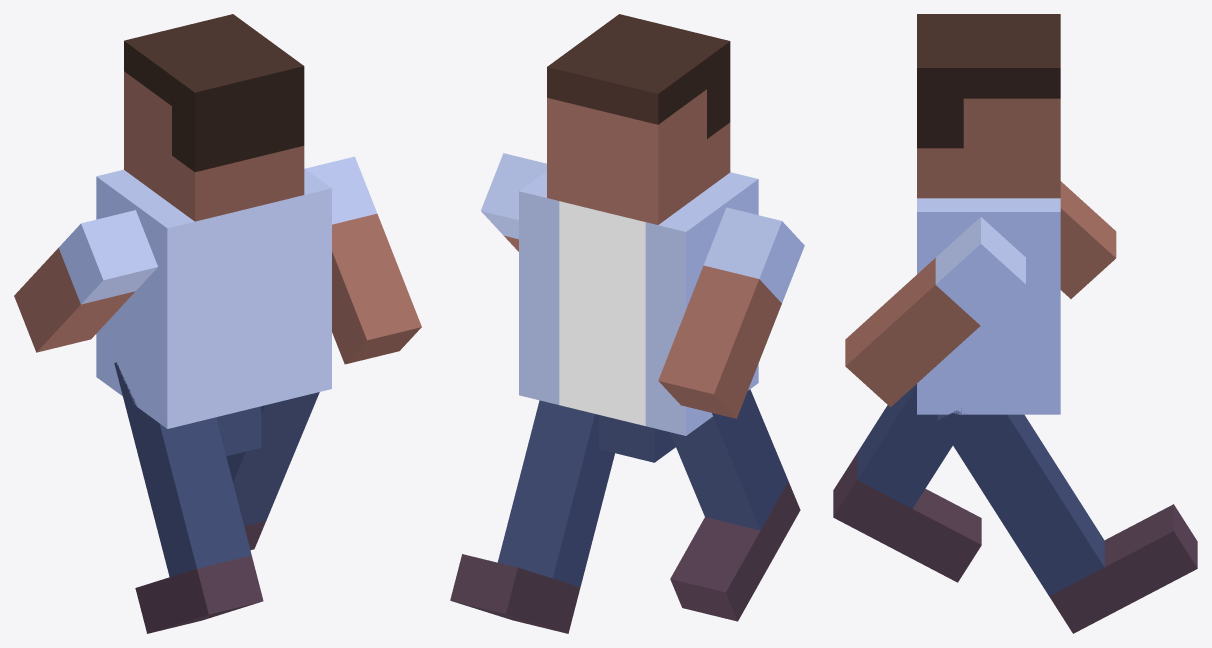
Rendered from new-person-jump-2.2.glb.
3 renders of one model, left to right at view 1: azimuth 30°, elevation 25°; view 2: azimuth 150°, elevation 25°; view 3: azimuth 270°, elevation 25°, orthographic.
Parts seen in each view (by area): view 1: UNIT.056, UNIT.060, UNIT.057, UNIT.058, UNIT.059; view 2: UNIT.056, UNIT.059, UNIT.060, UNIT.058, UNIT.057; view 3: UNIT.056, UNIT.059, UNIT.057, UNIT.060, UNIT.058.
Part boxes in pixels (left/top/right/bottom): UNIT.056: left=96, top=14, right=331, bottom=456; UNIT.060: left=114, top=362, right=263, bottom=633; UNIT.057: left=305, top=156, right=421, bottom=364; UNIT.058: left=14, top=210, right=157, bottom=352; UNIT.059: left=226, top=392, right=319, bottom=550; UNIT.056: left=519, top=14, right=758, bottom=462; UNIT.059: left=450, top=400, right=614, bottom=633; UNIT.060: left=670, top=389, right=800, bottom=621; UNIT.058: left=658, top=207, right=804, bottom=418; UNIT.057: left=481, top=153, right=546, bottom=251; UNIT.056: left=917, top=14, right=1060, bottom=445; UNIT.059: left=937, top=408, right=1197, bottom=633; UNIT.057: left=845, top=217, right=1025, bottom=407; UNIT.060: left=833, top=384, right=981, bottom=582; UNIT.058: left=1060, top=181, right=1116, bottom=298.
Size of the model in its own units: 0.7001 by 1.34 by 0.7982.
1 material, 1 textured.
